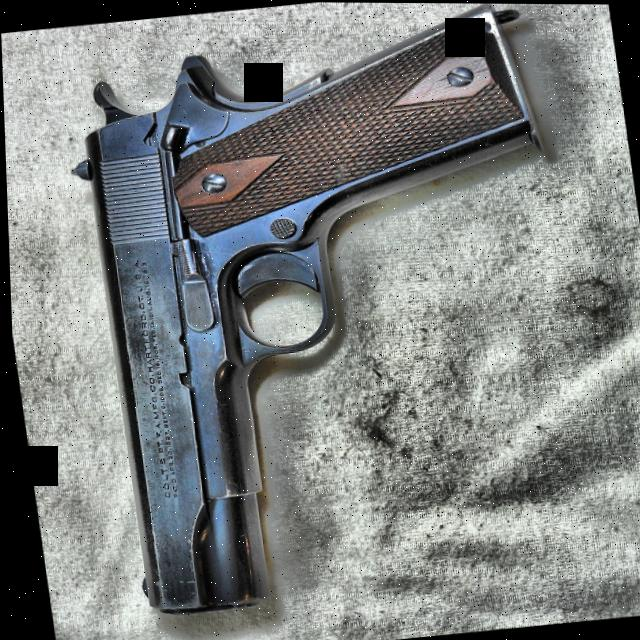Colt m1911: (51, 0, 602, 621)
